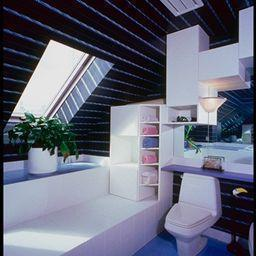Matera: (9, 105, 71, 174)
